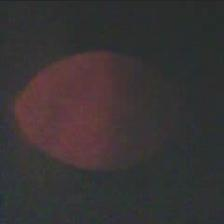fertile: (12, 48, 188, 175)
